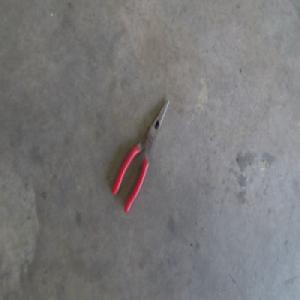Pliers: (111, 98, 169, 212)
